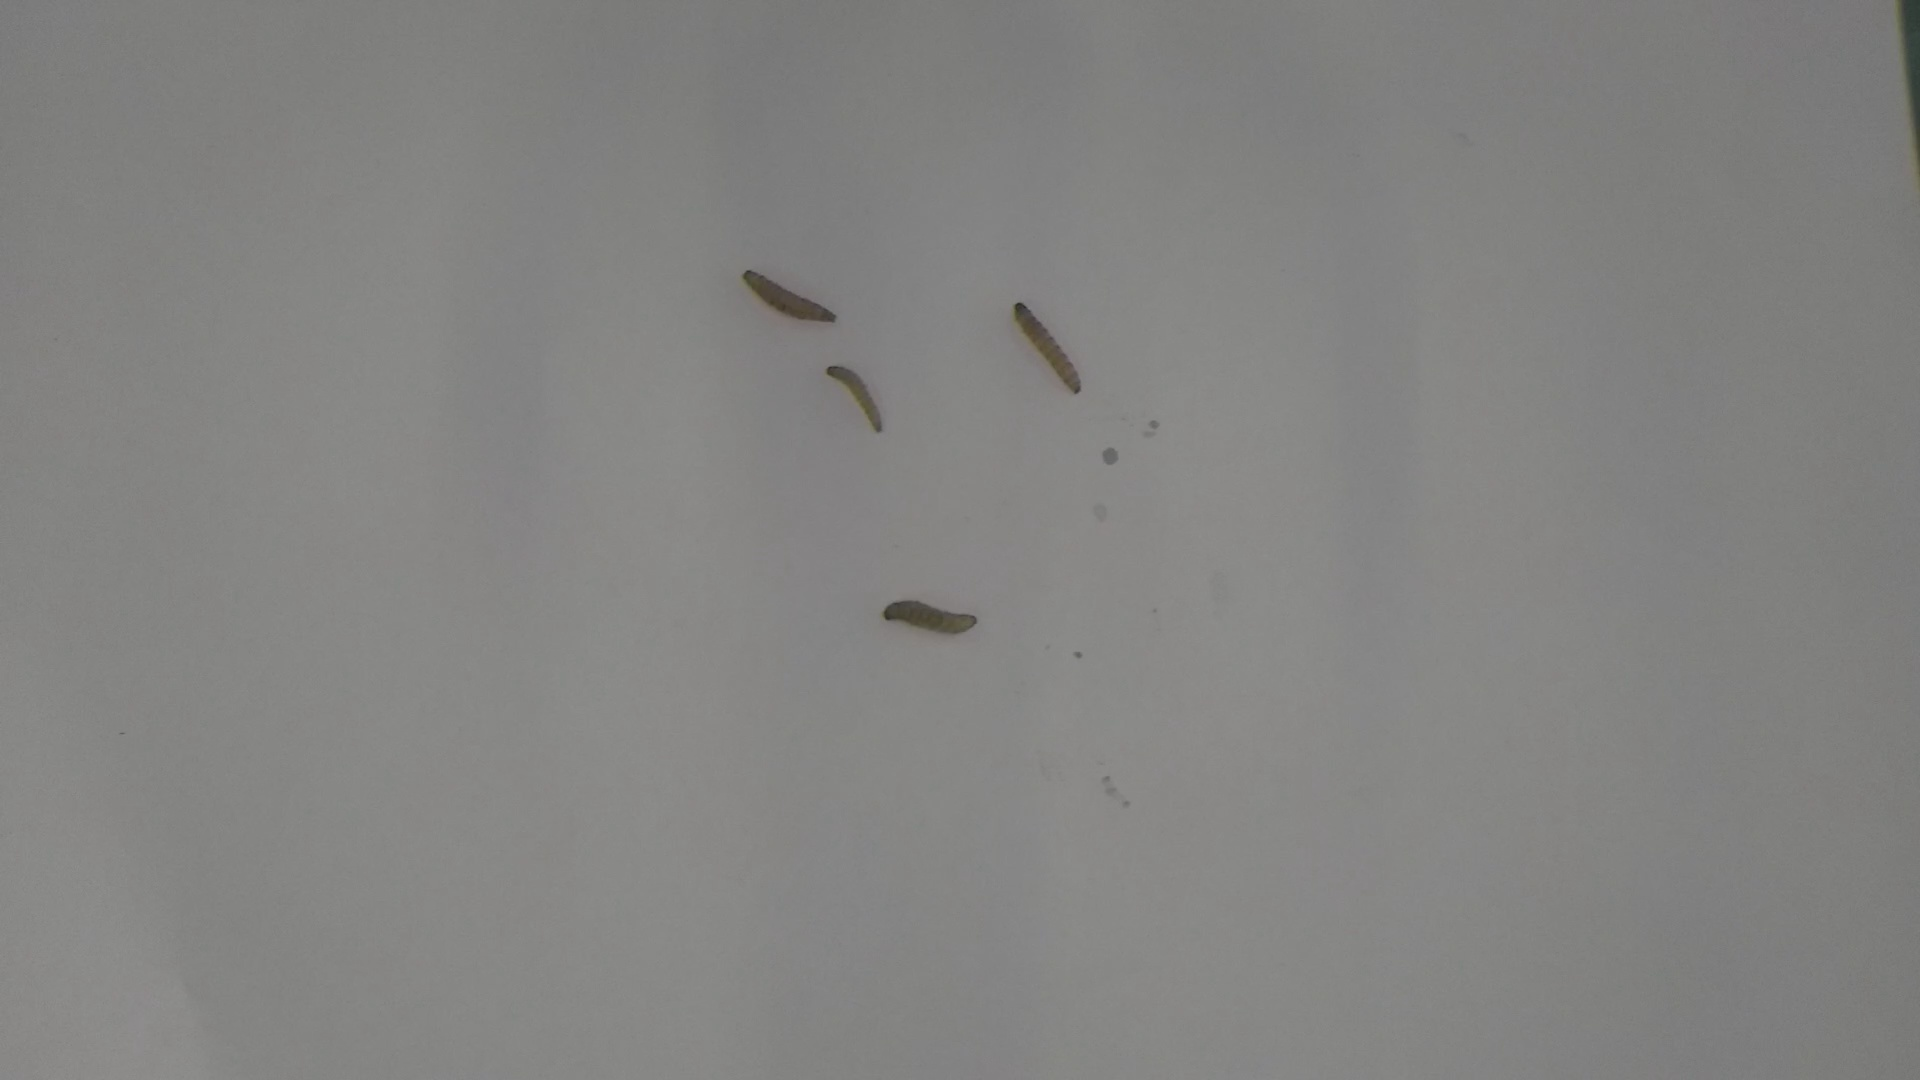efsb: (728, 260, 841, 331), (1007, 295, 1087, 397), (819, 356, 889, 442), (874, 596, 988, 641)
